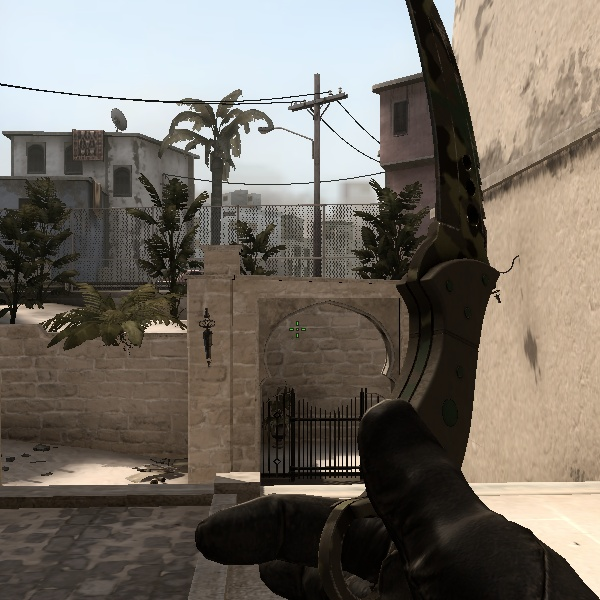ct_body: (234, 221, 262, 276)
